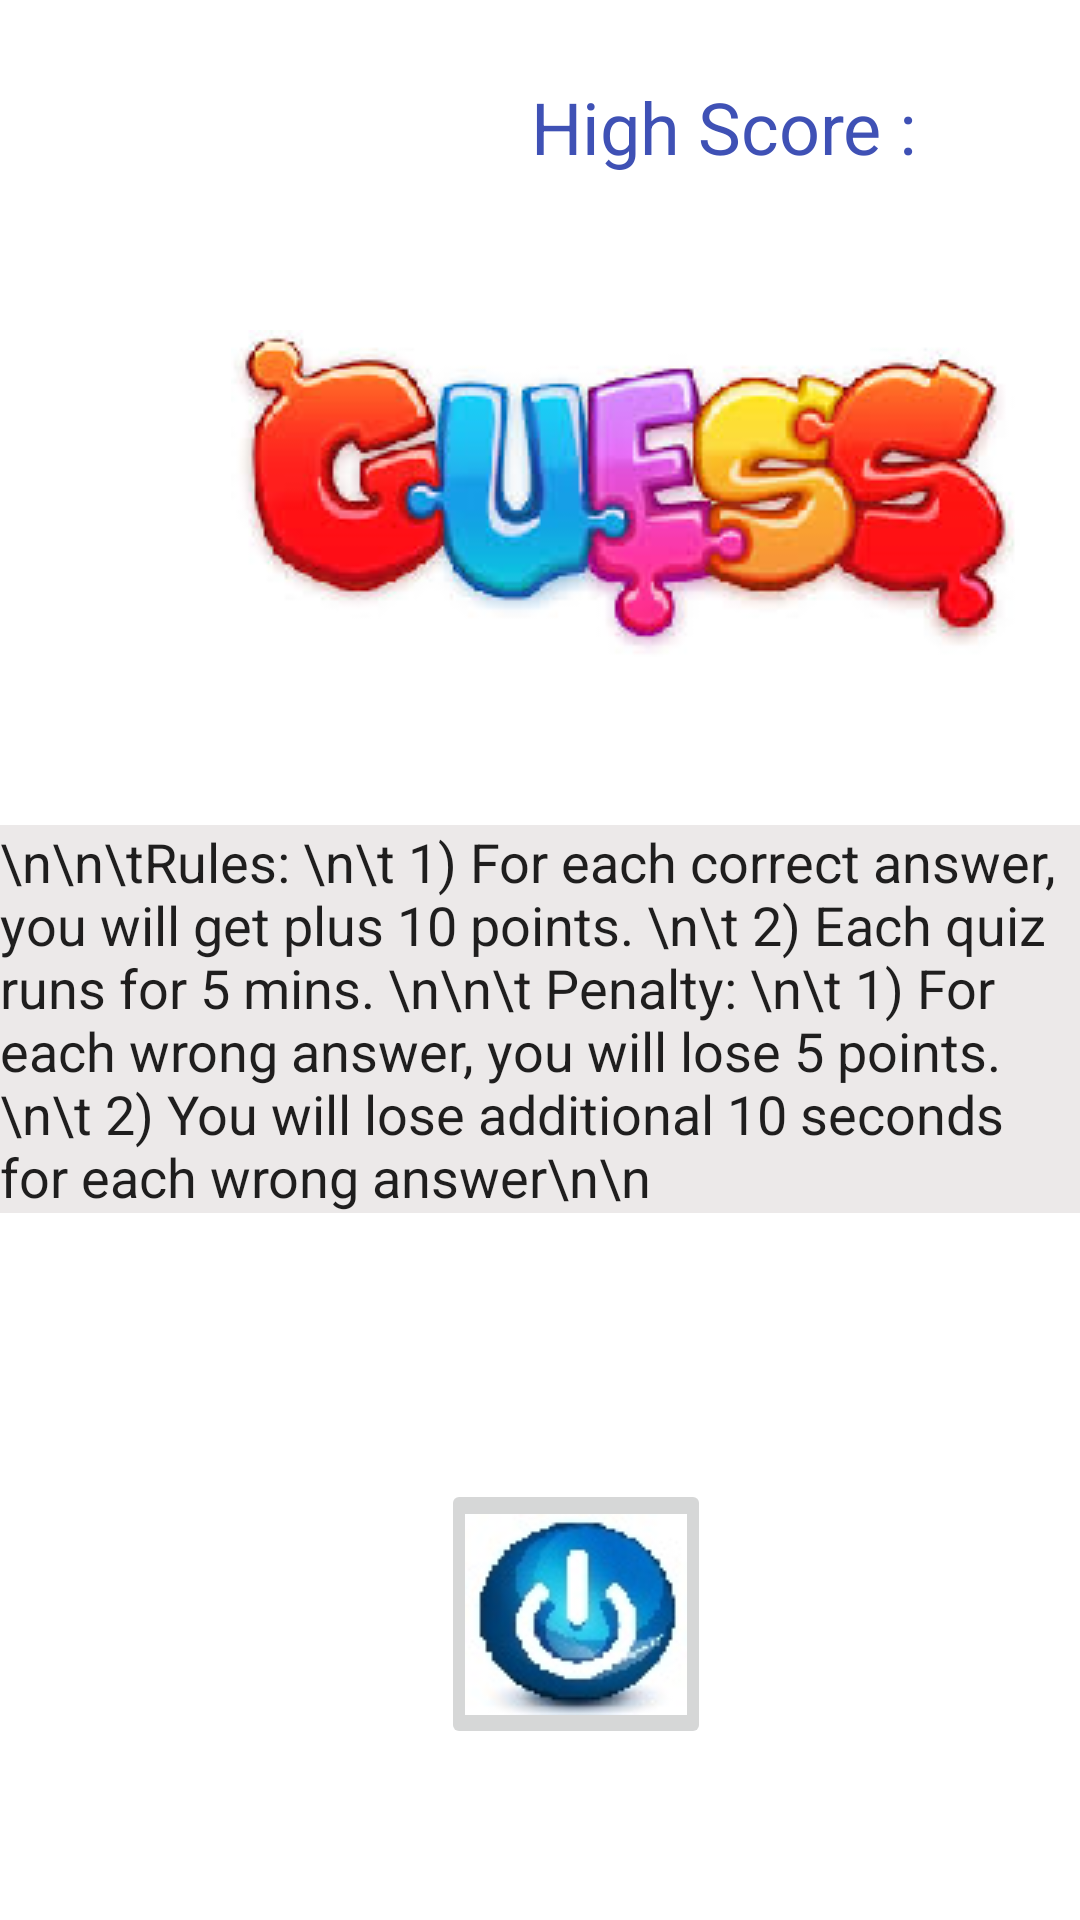

Screen size 1080*1920. Icon name, then its box in pixels as (x1, y1, x2, y2):
startbtn: (453, 1497, 699, 1731)
